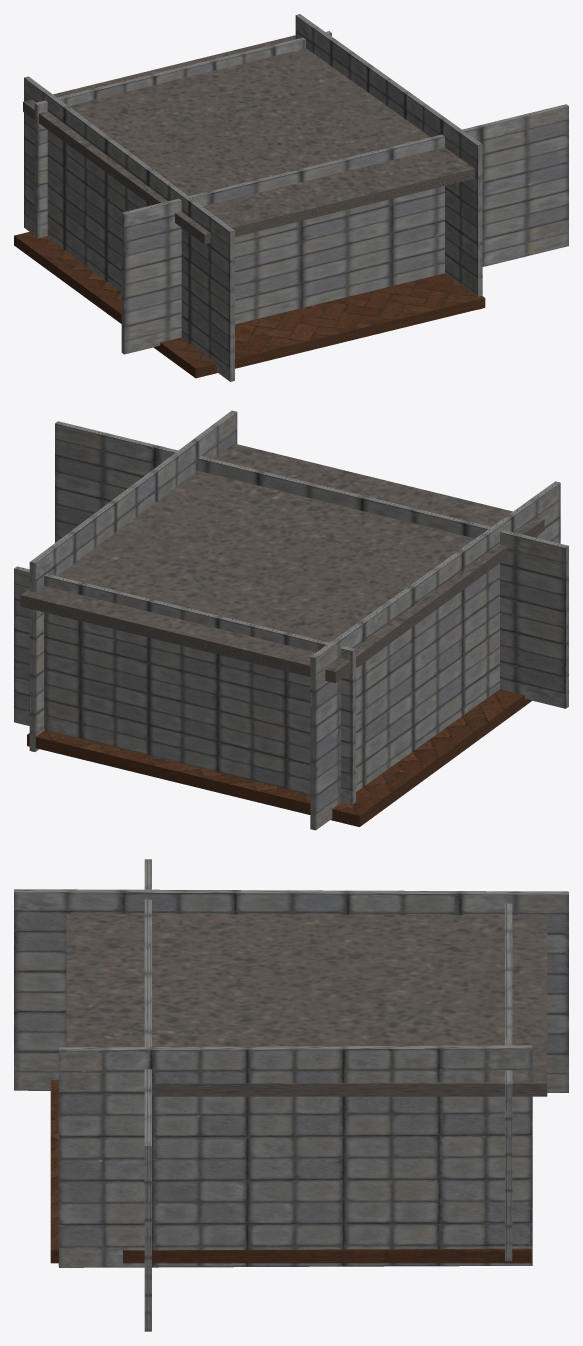
File: bathroom.gltf
3 views of the same model, one above another, from view 1: azimuth 30°, elevation 25°; view 2: azimuth 150°, elevation 25°; view 3: azimuth 270°, elevation 25° (orthographic). The views are drawn at different scales.
Visible parts, largest first — view 1: CSGBox3D23, CSGBox3D62, CSGBox3D42, CSGBox3D2, CSGBox3D52, CSGBox3D32; view 2: CSGBox3D62, CSGBox3D32, CSGBox3D42, CSGBox3D23, CSGBox3D2, CSGBox3D52; view 3: CSGBox3D52, CSGBox3D62, CSGBox3D42, CSGBox3D2, CSGBox3D23, CSGBox3D32.
Part boxes in pixels (box(x1,y1,x2,y2)): CSGBox3D23: box(121, 104, 568, 354); CSGBox3D62: box(23, 35, 474, 244); CSGBox3D42: box(24, 76, 234, 381); CSGBox3D2: box(14, 230, 485, 378); CSGBox3D52: box(295, 14, 482, 309); CSGBox3D32: box(34, 31, 331, 238); CSGBox3D62: box(20, 443, 544, 683); CSGBox3D32: box(14, 566, 355, 804); CSGBox3D42: box(310, 481, 560, 830); CSGBox3D23: box(55, 421, 568, 708); CSGBox3D2: box(27, 689, 531, 826); CSGBox3D52: box(29, 410, 237, 751); CSGBox3D52: box(58, 1045, 532, 1267); CSGBox3D62: box(66, 913, 547, 1096); CSGBox3D42: box(14, 889, 568, 1092); CSGBox3D2: box(50, 1080, 531, 1263); CSGBox3D23: box(144, 859, 151, 1331); CSGBox3D32: box(505, 903, 512, 1261).
Bounding box in the file's own units: 10.33 × 3.65 × 8.44.
25 materials, 4 textured.
